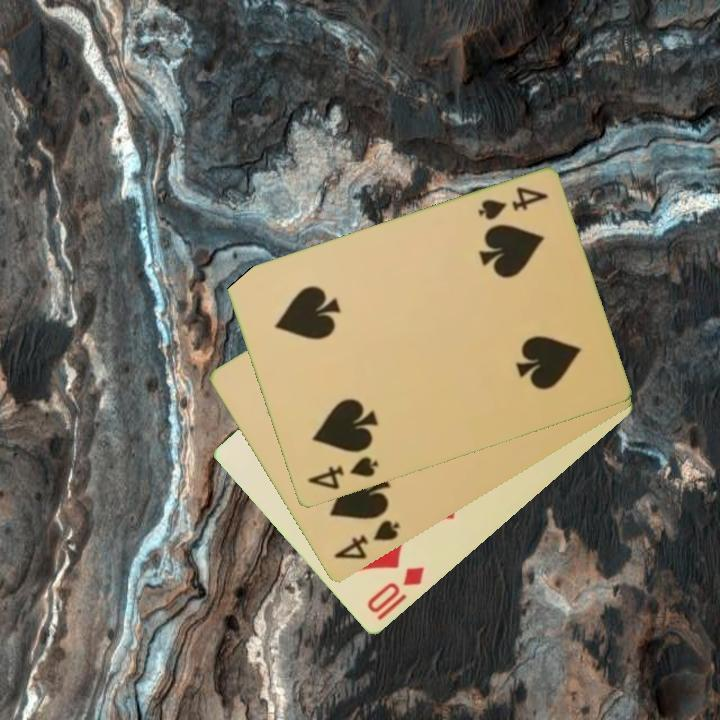10d: (363, 563, 428, 624)
4s: (330, 516, 403, 564), (303, 453, 381, 494), (474, 184, 551, 224)
